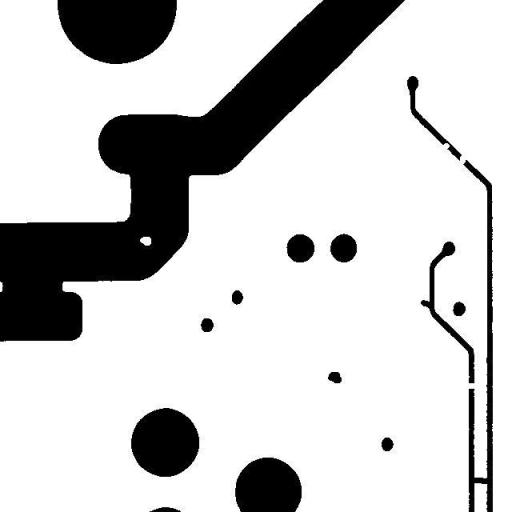copper: (322, 366, 346, 388)
mousebite: (438, 138, 454, 154)
open: (460, 378, 483, 394), (454, 149, 472, 169)
pin-hole: (134, 232, 156, 250)
short: (467, 472, 494, 489)
spur: (415, 294, 438, 314)
